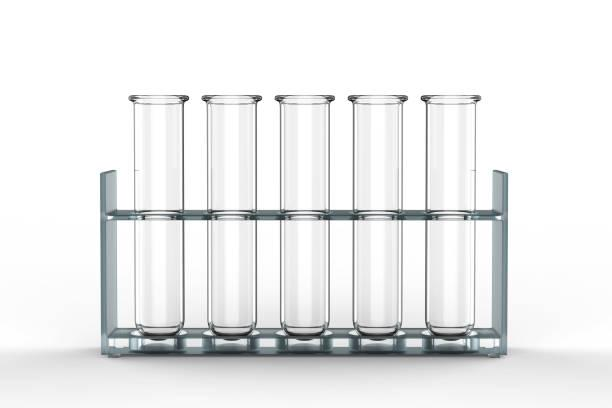Test tube: (340, 93, 409, 359), (196, 90, 261, 368), (422, 95, 482, 355), (126, 83, 183, 340), (279, 90, 330, 366)
